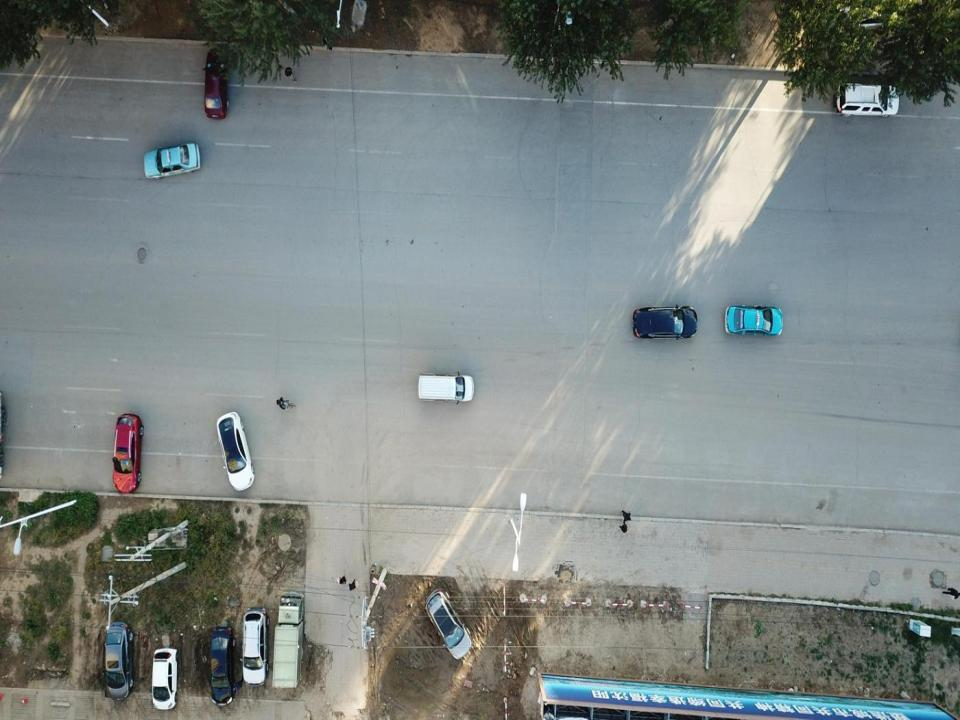car: (425, 586, 472, 662), (216, 413, 253, 493), (112, 410, 140, 494), (239, 608, 268, 686), (141, 141, 202, 178), (103, 621, 132, 698), (207, 628, 235, 704), (723, 303, 782, 339), (634, 307, 698, 337), (204, 48, 229, 118), (152, 651, 178, 709)
truck: (274, 590, 306, 691)
van: (837, 81, 900, 116), (417, 374, 474, 402)
